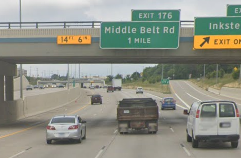1: (59, 35, 64, 44)
4: (63, 35, 68, 44)
6: (76, 36, 84, 44)
overheadsign: (56, 34, 92, 45)
